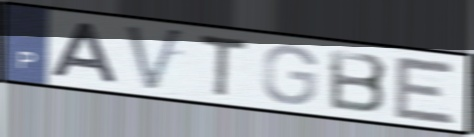A: (49, 20, 122, 86)
B: (326, 47, 391, 116)
E: (391, 53, 459, 127)
G: (259, 42, 320, 107)
T: (196, 31, 250, 101)
V: (122, 22, 188, 95)
